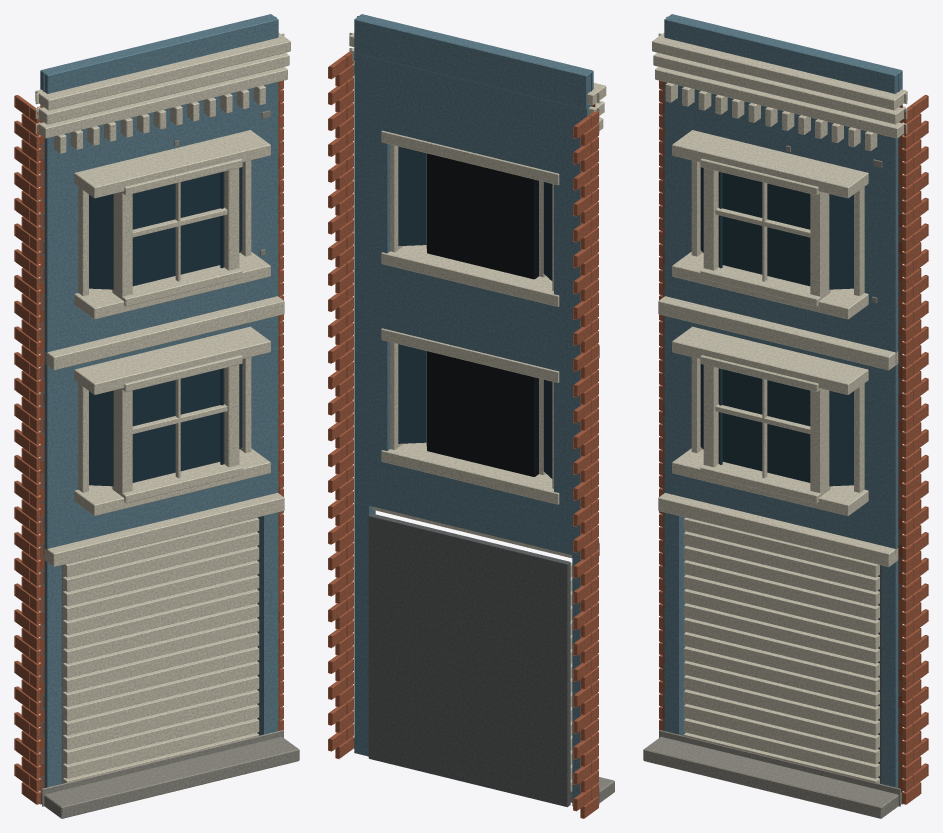
Rendered from VICT28_lod0.glb.
3 renders of one model, left to right at view 1: azimuth 30°, elevation 25°; view 2: azimuth 150°, elevation 25°; view 3: azimuth 330°, elevation 25°, orthographic.
Parts seen in each view (by area): view 1: VICT28_FRONT_LOD0; view 2: VICT28_FRONT_LOD0; view 3: VICT28_FRONT_LOD0.
Part boxes in pixels (bbox=[...]): VICT28_FRONT_LOD0: bbox=[14, 14, 299, 818]; VICT28_FRONT_LOD0: bbox=[328, 14, 614, 818]; VICT28_FRONT_LOD0: bbox=[643, 14, 928, 818].
Bounding box in the file's own units: 3.44 × 9.66 × 1.11.
10 materials, 8 textured.
